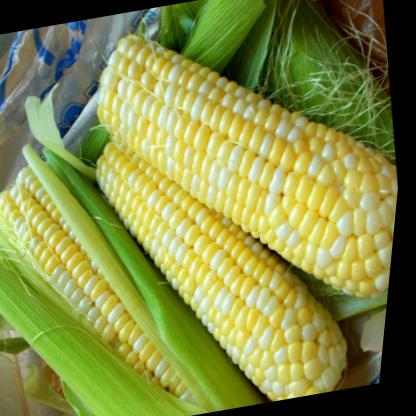corn: (67, 0, 416, 341), (68, 88, 386, 416)
